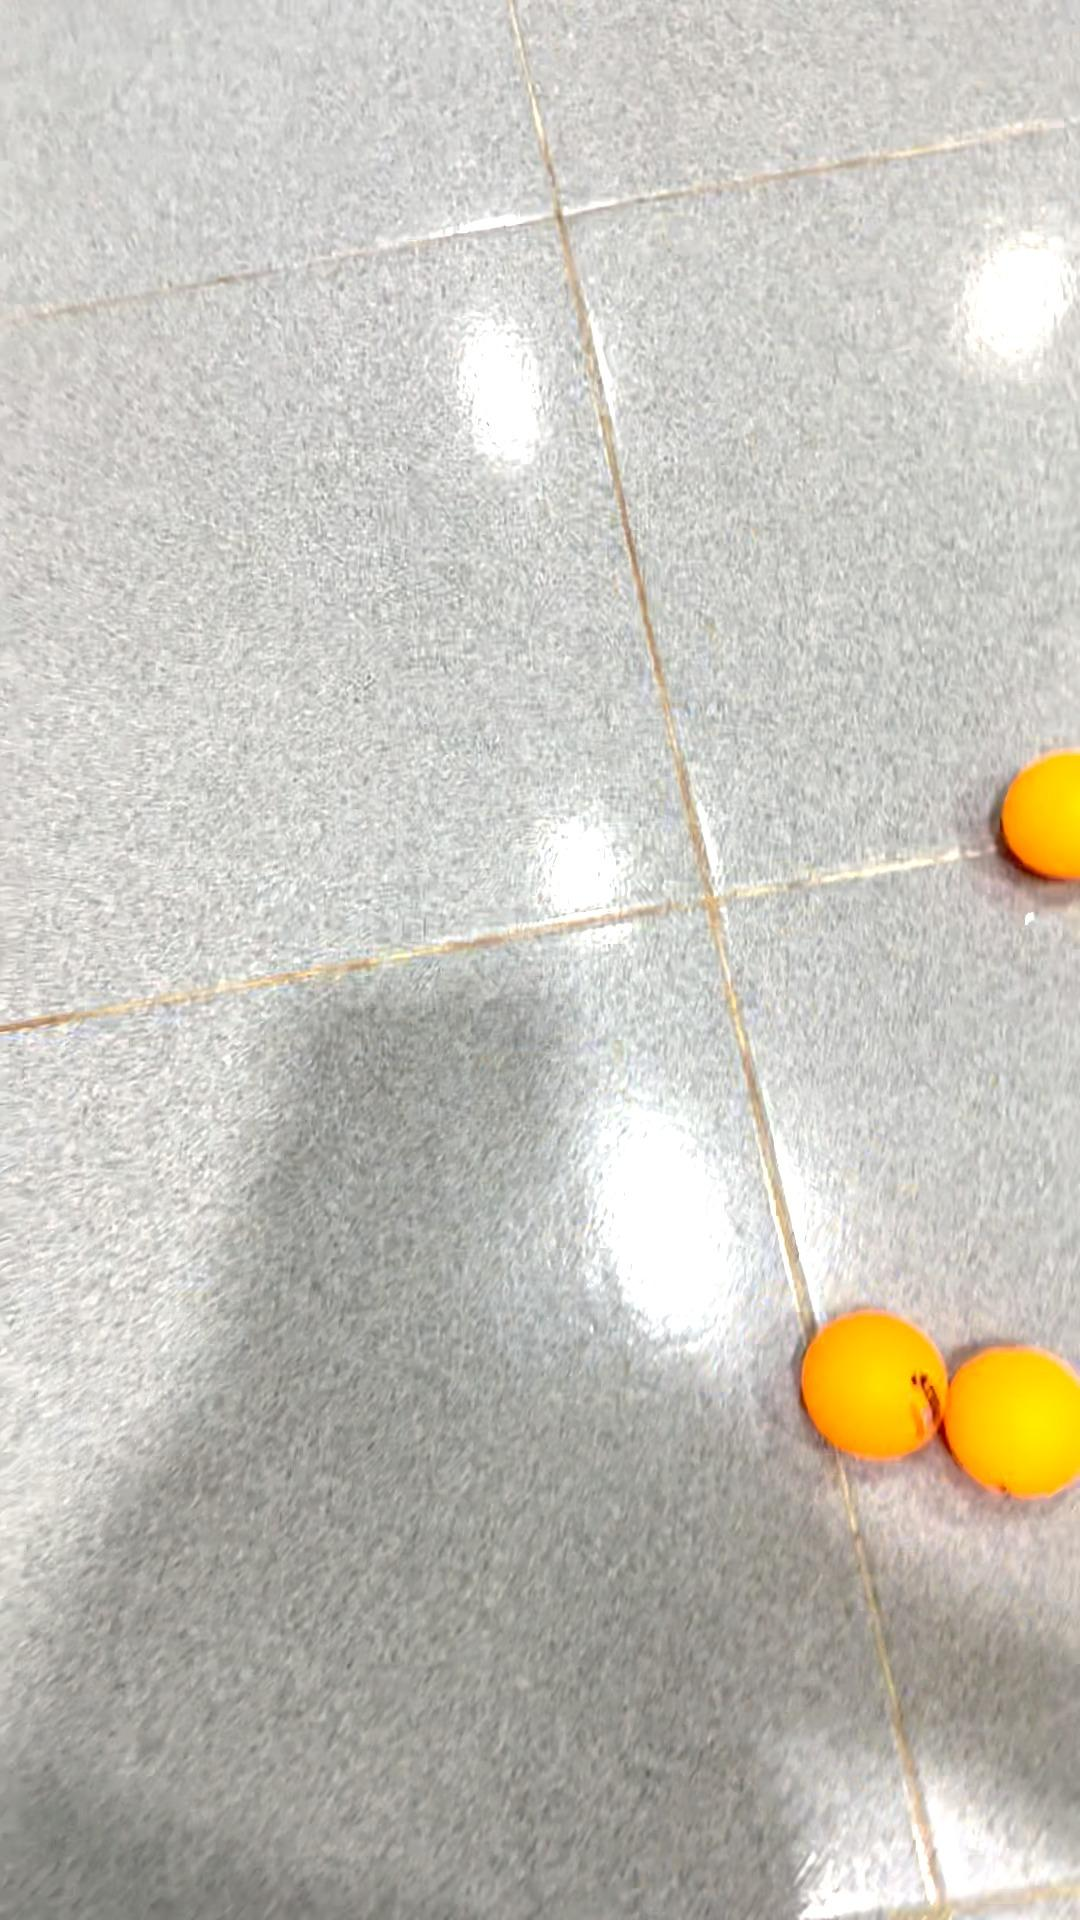oball: (791, 1298, 942, 1468), (942, 1345, 1075, 1510), (998, 745, 1080, 886)
